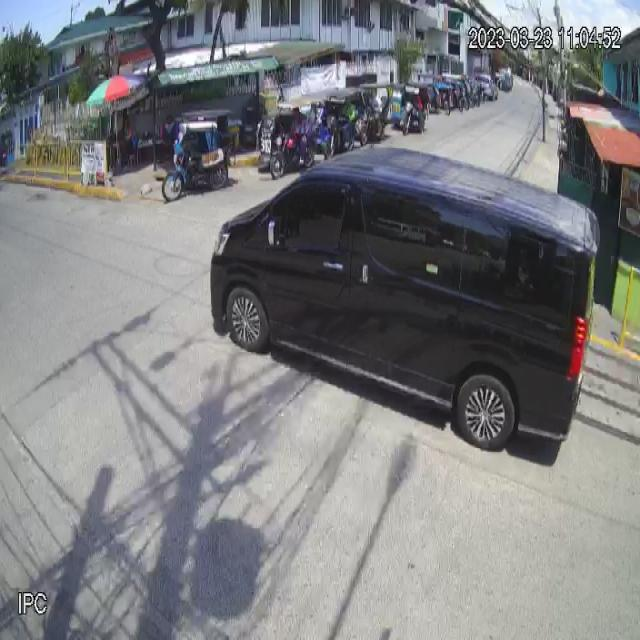Van: (208, 142, 601, 461)
